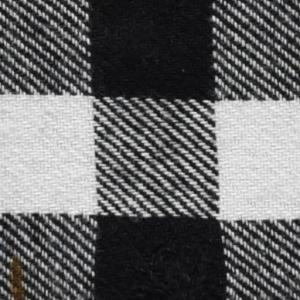Oil Stain: (8, 251, 28, 300)
